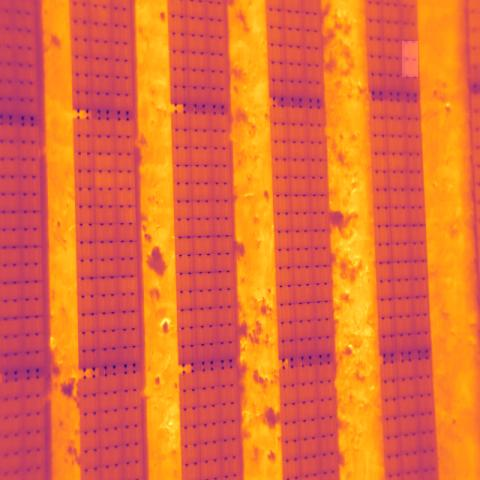fault: (402, 41, 418, 77)
